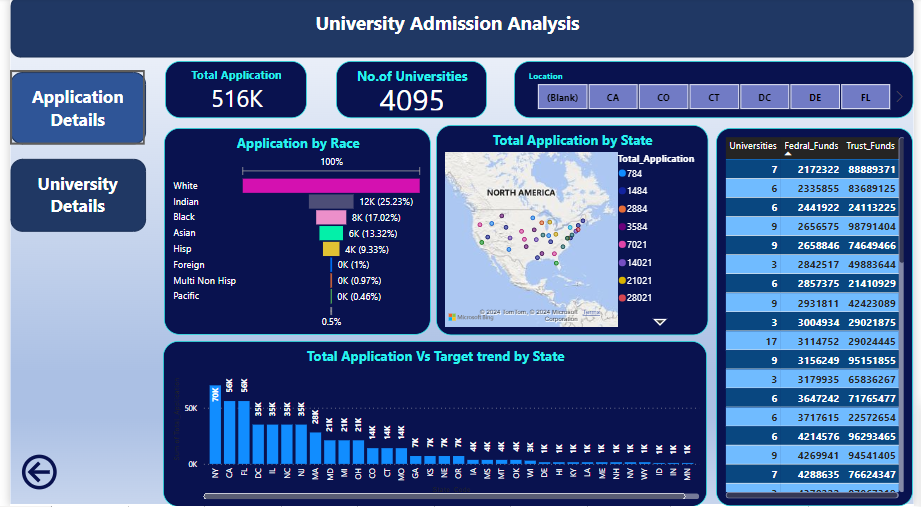

The page's visual inventory and layout, read from the dashboard file:
{"tool":"powerbi","page":{"name":"Application Detail","canvas":[1280,720],"ordinal":8},"visuals":[{"type":"textbox","box":[421.6,11.8,398.1,53.8],"z":0},{"type":"actionButton","box":[0,102.5,191.5,105.8],"z":1000},{"type":"actionButton","box":[0,223.4,191.5,107.5],"z":2000},{"type":"columnChart","title":"Total Application Vs Target trend by State","fields":{"Y":["Sum(state_target.Total_Application)"],"Category":["state_target.State_Code"]},"box":[216.7,485.5,771,235.2],"z":3000},{"type":"card","title":"Total Application","fields":{"Values":["Sum(state_target.Total_Application)"]},"box":[219.7,89.3,201.3,80.8],"z":4000},{"type":"card","title":"No.of Universities","fields":{"Values":["Sum(universities and Grants.Count)"]},"box":[462,89.3,214,80.8],"z":5000},{"type":"tableEx","fields":{"Values":["state_universities.Universities","state_universities.Fedral_Funds","state_universities.Trust_Funds"]},"box":[1000.6,184.3,279.2,535.7],"z":6000},{"type":"funnel","title":"Application by Race","fields":{"Y":["Sum(Append1.pt_tot_white_v)","Sum(Append1.pt_tot_indian_v)","Sum(Append1.pt_tot_black_v)","Sum(Append1.pt_tot_asian_v)","Sum(Append1.pt_tot_hisp_v)","Sum(Append1.pt_tot_forgn_v)","Sum(Append1.pt_tot_multi_non_hisp_v)","Sum(Append1.pt_tot_pacific_v)"]},"box":[218.3,184.3,378.4,293.4],"z":7000},{"type":"map","title":"Total Application by State","fields":{"Category":["state_target.State_Code"],"Series":["state_target.Total_Application"]},"box":[603.8,180,385.5,297.6],"z":8000},{"type":"slicer","fields":{"Values":["state_target.State_Code"]},"box":[714.3,89.3,565.5,80.8],"z":9000},{"type":"actionButton","box":[11.8,640,60.5,62.2],"z":10000}]}

Visuals, with their boxes in screenshot pixels (x1, y1, x2, y2), scaled from the page's 1280x720 canvas onto the 921x507 screenshot:
textbox: detection(303, 8, 590, 46)
actionButton: detection(0, 72, 138, 147)
actionButton: detection(0, 157, 138, 233)
"Total Application Vs Target trend by State" columnChart: detection(156, 342, 711, 506)
"Total Application" card: detection(158, 63, 303, 120)
"No.of Universities" card: detection(332, 63, 486, 120)
tableEx - state_universities.Universities x state_universities.Fedral_Funds: detection(720, 130, 920, 506)
"Application by Race" funnel: detection(157, 130, 429, 336)
"Total Application by State" map: detection(434, 127, 712, 336)
slicer - state_target.State_Code: detection(514, 63, 920, 120)
actionButton: detection(8, 451, 52, 494)
